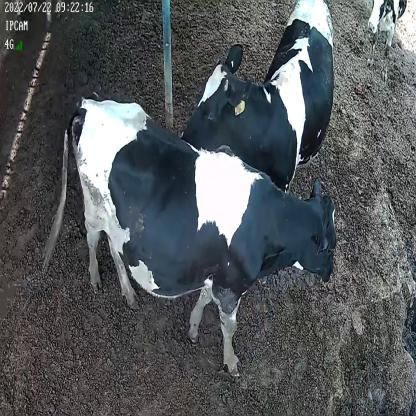cow: (40, 93, 338, 374), (181, 3, 336, 191)
